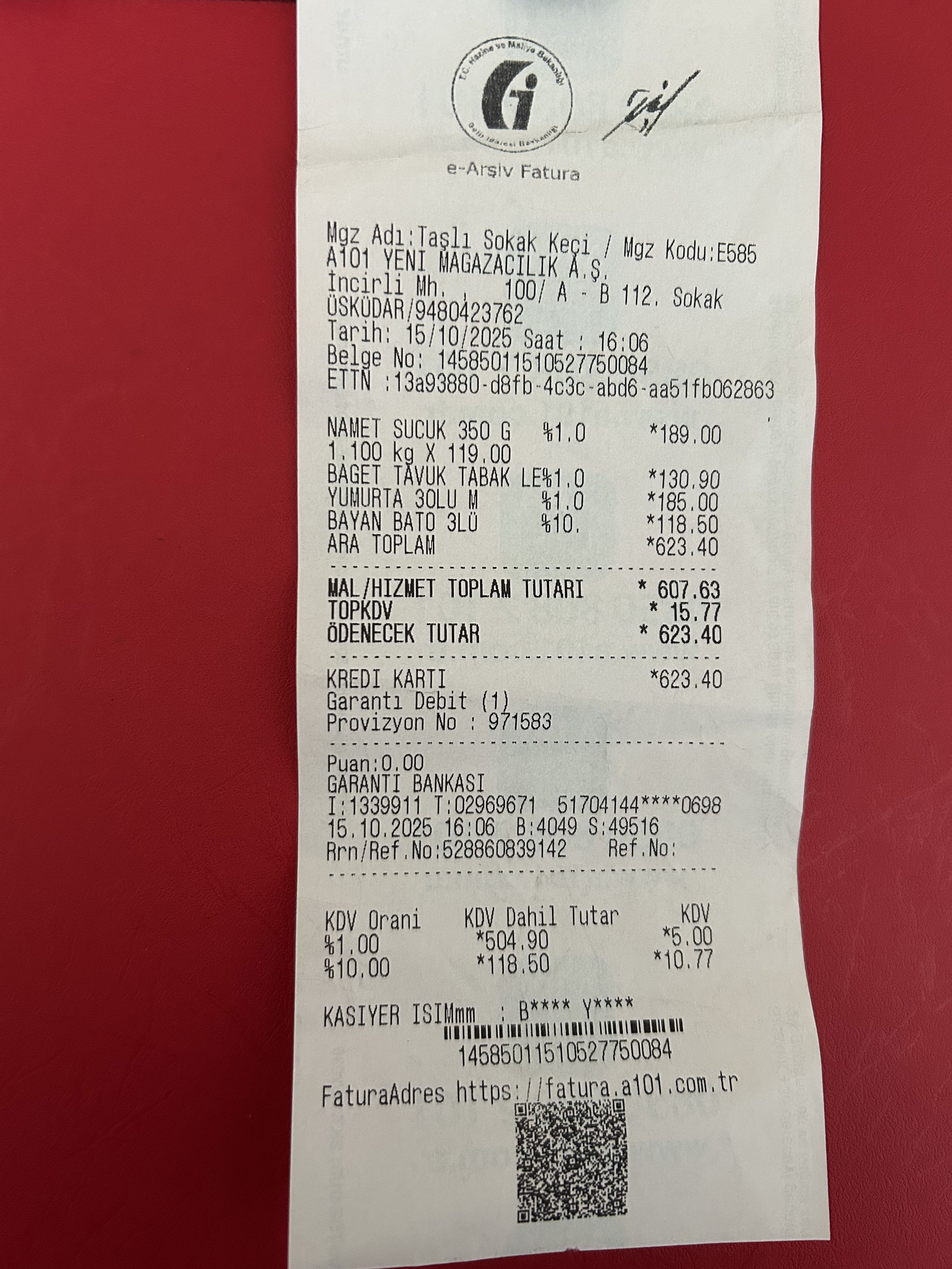date: (652, 622, 726, 648)
price: (402, 322, 515, 350)
workplace: (313, 217, 769, 311)
